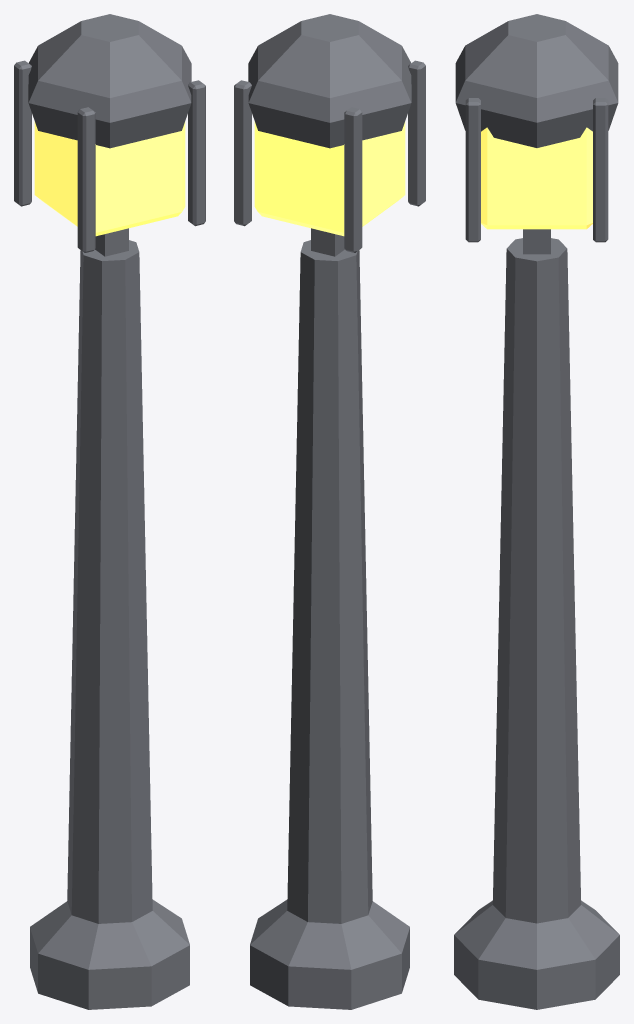
Rendered from lamp-post.glb.
The picture shows the model from 3 angles, left to right: view 1: azimuth 30°, elevation 25°; view 2: azimuth 150°, elevation 25°; view 3: azimuth 270°, elevation 25°; orthographic projection.
Parts seen in each view (by area): view 1: lamp-post; view 2: lamp-post; view 3: lamp-post.
Part boxes in pixels (<box>): lamp-post: <box>14,14,205,1009</box>; lamp-post: <box>234,14,425,1009</box>; lamp-post: <box>454,14,619,1009</box>.
Bounding box in the file's own units: 0.6802 × 3.78 × 0.5999.
